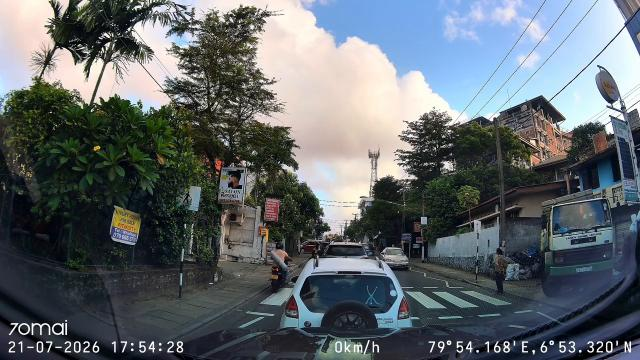illegal overtaking: (271, 245, 294, 289)
